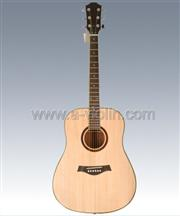guitar: (51, 2, 137, 212)
